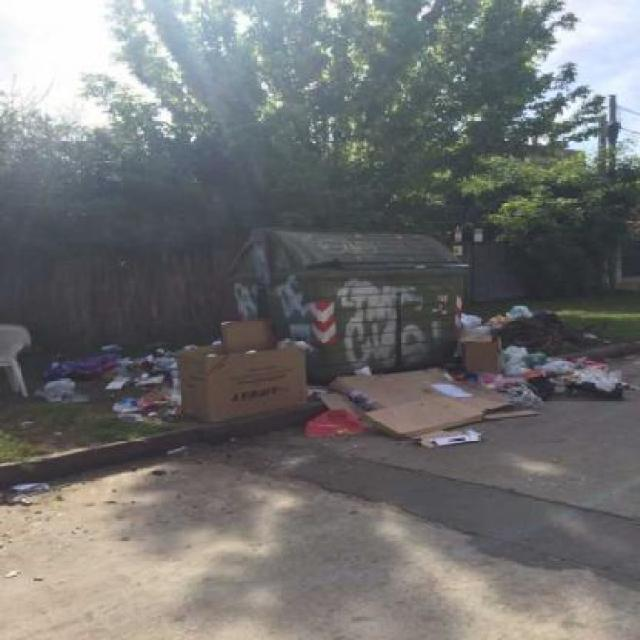garbage: (454, 303, 625, 397), (151, 336, 317, 430), (328, 372, 520, 448), (48, 336, 184, 419), (0, 325, 34, 400), (0, 474, 69, 507)
